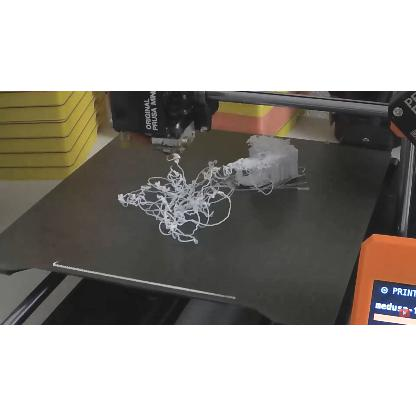fail: (116, 154, 258, 244)
